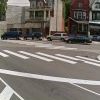crosswalk: (0, 50, 100, 66)
